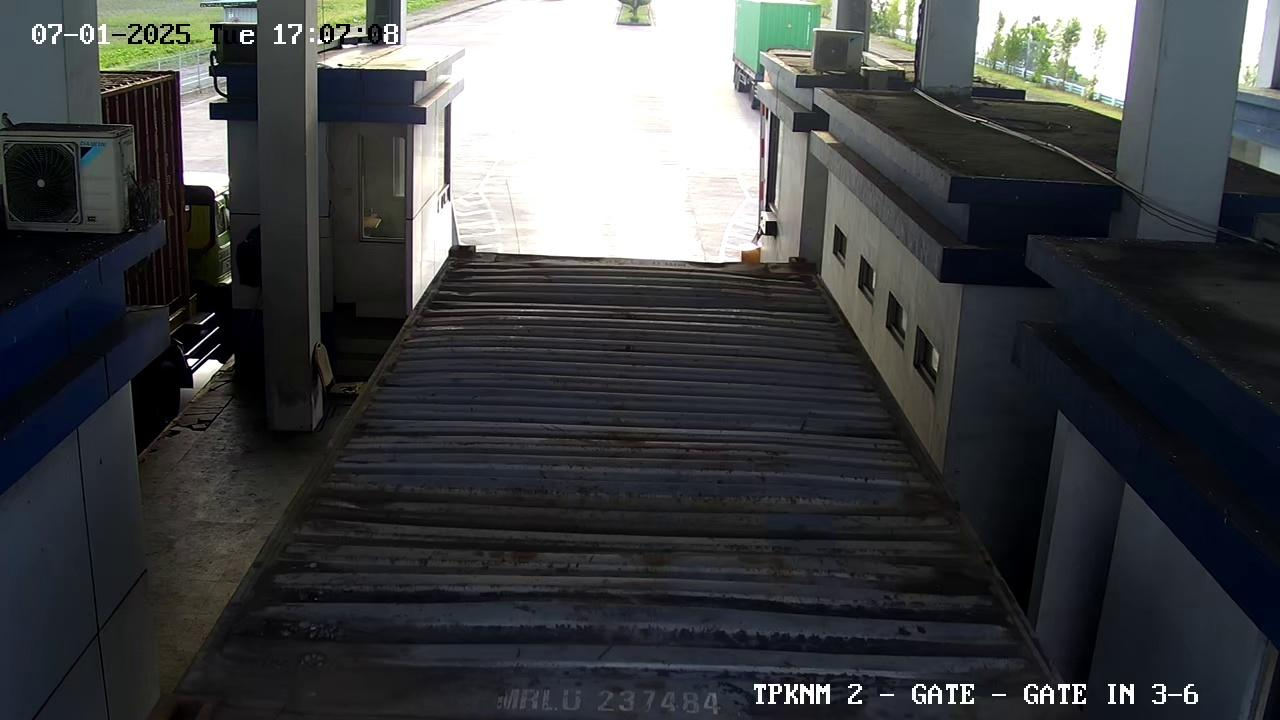Container_ID: (455, 666, 783, 720)
